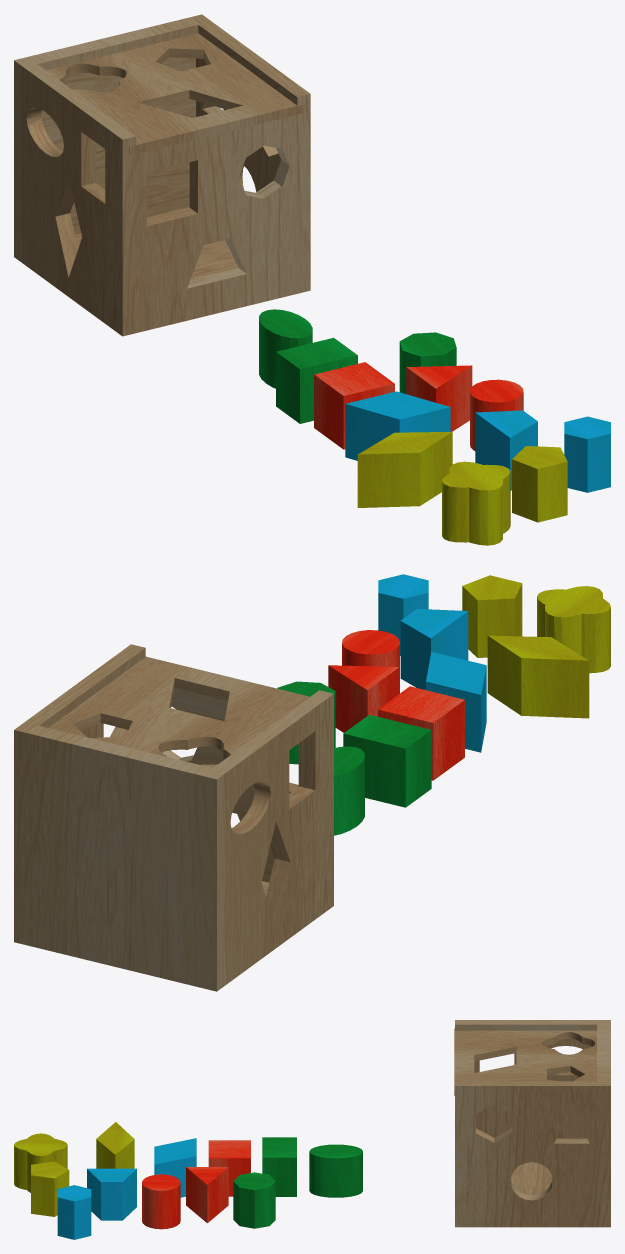
3 views of the same model, one above another, from view 1: azimuth 30°, elevation 25°; view 2: azimuth 150°, elevation 25°; view 3: azimuth 270°, elevation 25° (orthographic). The views are drawn at different scales.
Visible parts, largest first — view 1: g_box, g_lid, g_diamond2, g_cross, g_diamond1, g_penta, g_rect, g_square, g_hex, g_square2, g_trig, g_oval (+2 smaller); view 2: g_box, g_lid, g_diamond2, g_rect, g_cross, g_square, g_square2, g_penta, g_trig, g_diamond1, g_oval, g_hex (+2 smaller); view 3: g_box, g_lid, g_oval, g_square2, g_octo, g_trig, g_circle, g_cross, g_rect, g_hex, g_penta, g_diamond2 (+2 smaller).
Boxes of the visible parts, x1,y1,x2,y2 form: g_box: [14, 14, 310, 336]; g_lid: [46, 33, 304, 155]; g_diamond2: [357, 431, 452, 507]; g_cross: [442, 461, 510, 545]; g_diamond1: [345, 391, 450, 460]; g_penta: [512, 446, 567, 522]; g_rect: [276, 337, 357, 423]; g_square: [314, 362, 394, 449]; g_hex: [564, 416, 610, 492]; g_square2: [475, 410, 537, 490]; g_trig: [406, 365, 472, 431]; g_oval: [259, 309, 312, 388]; g_box: [14, 644, 333, 991]; g_lid: [49, 656, 309, 767]; g_diamond2: [487, 635, 589, 718]; g_rect: [343, 714, 431, 807]; g_cross: [537, 586, 610, 673]; g_square: [378, 686, 464, 780]; g_square2: [400, 609, 468, 689]; g_penta: [462, 575, 522, 657]; g_trig: [328, 665, 399, 732]; g_diamond1: [426, 651, 486, 752]; g_oval: [334, 746, 364, 835]; g_hex: [378, 574, 428, 655]; g_box: [455, 1020, 610, 1227]; g_lid: [454, 1028, 596, 1095]; g_oval: [309, 1144, 362, 1197]; g_square2: [87, 1168, 136, 1220]; g_octo: [233, 1172, 275, 1228]; g_trig: [186, 1167, 228, 1223]; g_circle: [142, 1174, 180, 1229]; g_cross: [14, 1133, 67, 1192]; g_rect: [262, 1137, 296, 1196]; g_hex: [57, 1185, 91, 1239]; g_penta: [31, 1161, 69, 1216]; g_diamond2: [96, 1122, 134, 1168].
Bounding box in the file's own units: 16.71 × 14.11 × 53.56.
Materials: 5 (5 with a texture image).
